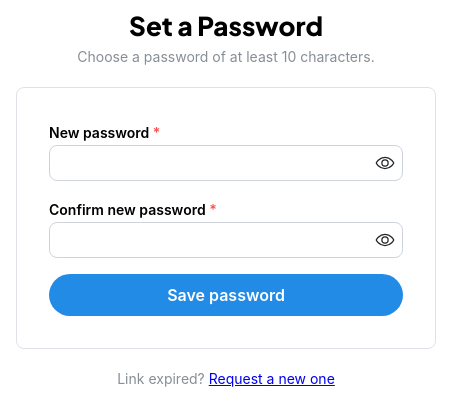
Test: ResetPasswordPage › confirms once the password is set
The image size is (453, 404).
Type "a-long-enough-password" into the password field labelled "New password *".
click(226, 163); type("a-long-enough-password")  # box [50, 146, 402, 180]
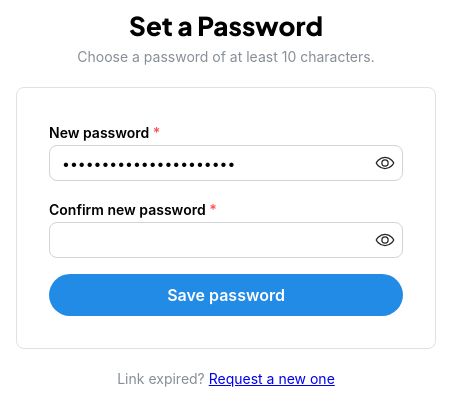
Type "a-long-enough-password" into the password field labelled "Confirm new password *".
click(226, 240); type("a-long-enough-password")  # box [50, 223, 402, 257]
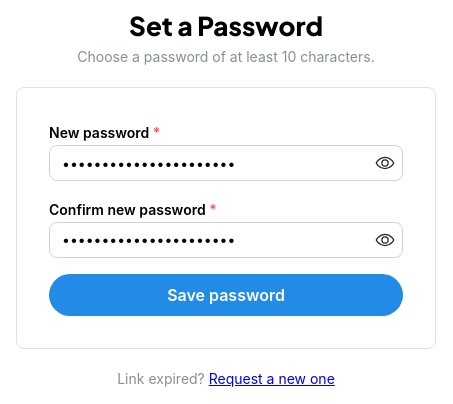
Submit the form "New password * Confirm new password * Save password", box [49, 120, 403, 316]
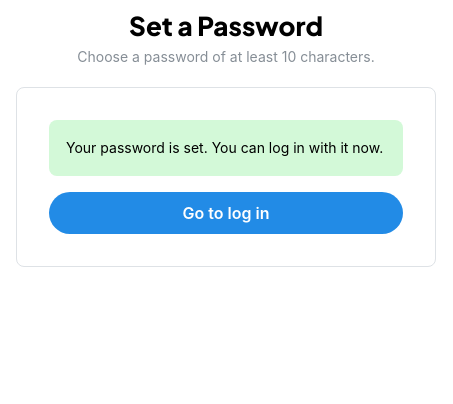
Expected: the text "Your password is set. You can log in with it now." is shown, [66, 137, 386, 159]
